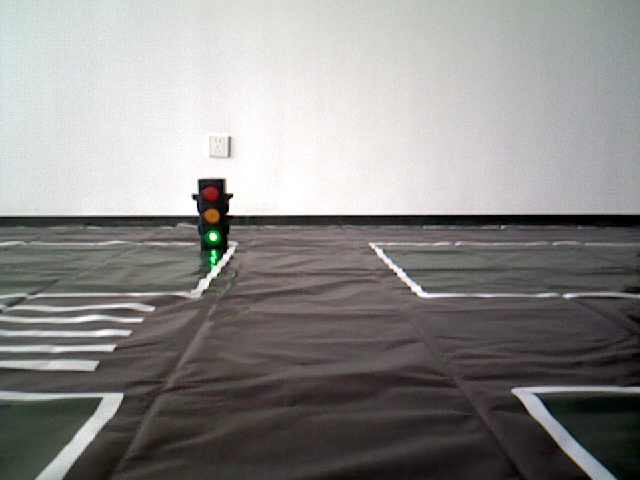green: (198, 181, 222, 240)
